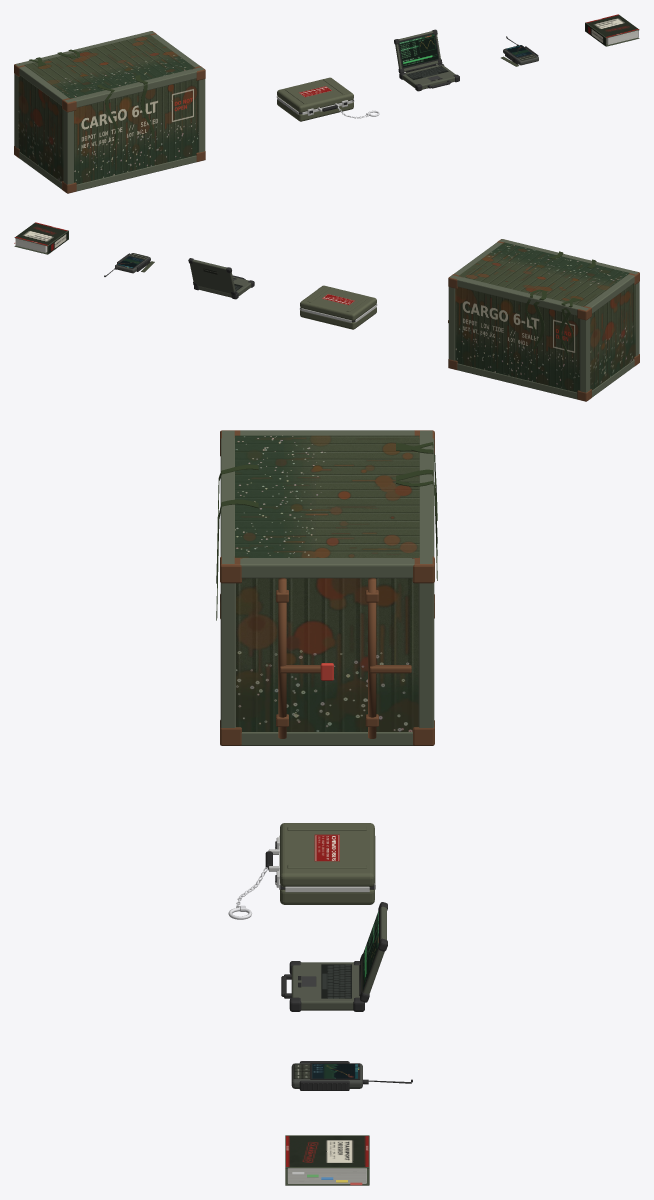
File: items2.glb
The picture shows the model from 3 angles, top to bottom: view 1: azimuth 30°, elevation 25°; view 2: azimuth 150°, elevation 25°; view 3: azimuth 270°, elevation 25°; orthographic projection. The views are drawn at different scales.
Visible parts, largest first — view 1: i06_sideA, i06_top, i06_endB, i07_lid, i06_railx-10.73, i08_screen, i06_railx-10.03, i06_post-1-1, i10_cover, i06_raily-10.73, i06_post1-1, i08_base (+8 smaller); view 2: i06_sideB, i06_top, i06_endB, i07_lid, i06_railx10.73, i08_lid, i06_railx10.03, i06_post-11, i10_cover, i06_raily-10.73, i06_post11, i07_bottom (+5 smaller); view 3: i06_endA, i06_top, i07_lid, i06_raily10.73, i10_cover, i06_post11, i06_post1-1, i06_raily10.03, i08_base, i06_railx10.73, i06_railx-10.73, i07_bottom (+5 smaller).
Part boxes in pixels (bbox=[...]): i06_sideA: bbox=[74, 79, 198, 184]; i06_top: bbox=[24, 34, 195, 98]; i06_endB: bbox=[18, 75, 63, 182]; i07_lid: bbox=[277, 77, 353, 112]; i06_railx-10.73: bbox=[65, 67, 203, 107]; i08_screen: bbox=[399, 34, 438, 67]; i06_railx-10.03: bbox=[76, 155, 196, 191]; i06_post-1-1: bbox=[63, 100, 73, 184]; i10_cover: bbox=[586, 14, 638, 37]; i06_raily-10.73: bbox=[19, 66, 68, 105]; i06_post1-1: bbox=[198, 67, 205, 152]; i08_base: bbox=[402, 64, 455, 89]; i06_sideB: bbox=[455, 287, 579, 392]; i06_top: bbox=[458, 242, 629, 306]; i06_endB: bbox=[590, 283, 635, 390]; i07_lid: bbox=[300, 285, 376, 320]; i06_railx10.73: bbox=[450, 275, 588, 315]; i08_lid: bbox=[190, 259, 235, 293]; i06_railx10.03: bbox=[457, 363, 577, 399]; i06_post-11: bbox=[580, 308, 590, 392]; i10_cover: bbox=[15, 222, 67, 245]; i06_raily-10.73: bbox=[585, 274, 634, 313]; i06_post11: bbox=[448, 275, 455, 360]; i07_bottom: bbox=[300, 307, 376, 329]; i06_endA: bbox=[236, 578, 418, 731]; i06_top: bbox=[235, 435, 419, 557]; i07_lid: bbox=[280, 823, 374, 887]; i06_raily10.73: bbox=[240, 558, 414, 578]; i10_cover: bbox=[286, 1136, 368, 1166]; i06_post11: bbox=[418, 563, 434, 727]; i06_post1-1: bbox=[220, 563, 235, 727]; i06_raily10.03: bbox=[241, 732, 413, 745]; i08_base: bbox=[291, 962, 359, 1010]; i06_railx10.73: bbox=[419, 431, 434, 563]; i06_railx-10.73: bbox=[220, 431, 234, 563]; i07_bottom: bbox=[280, 889, 374, 904].
Size of the model in its own units: 5.17 by 0.774 by 0.839.
Materials: 35 (12 with a texture image).
